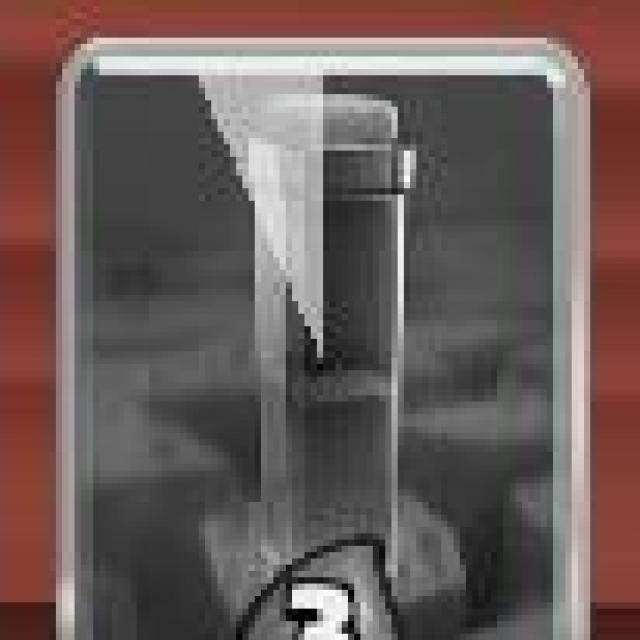Earthquake: (47, 37, 594, 640)
